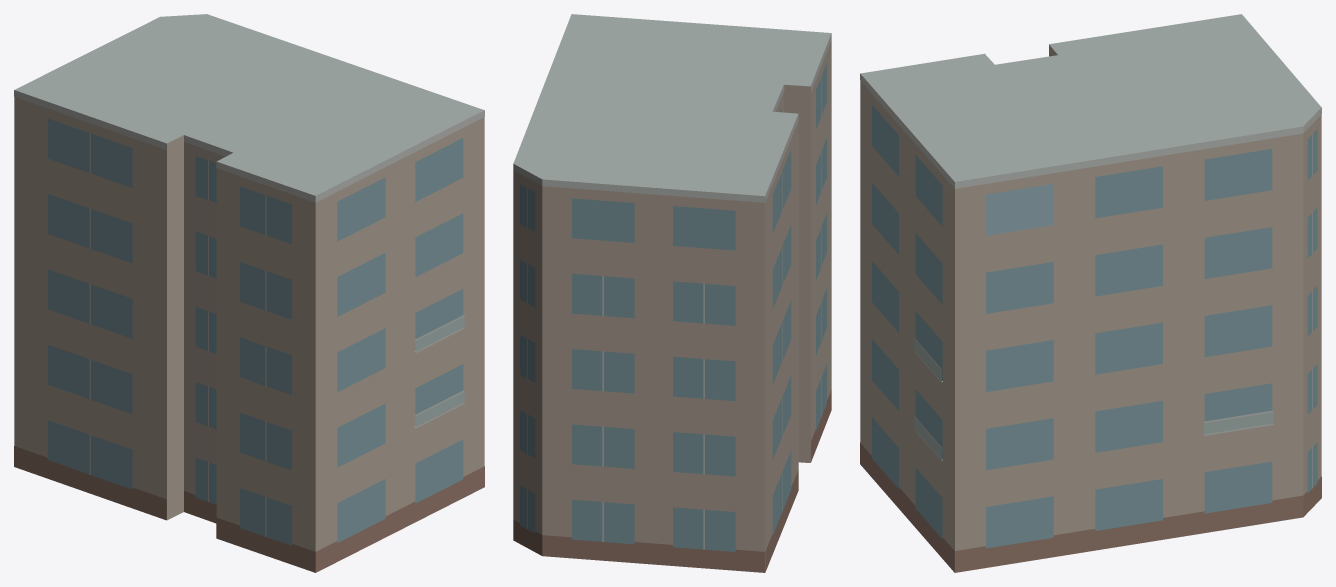
The model's file is survey-upis-32834954.glb.
The picture shows the model from 3 angles, left to right: view 1: azimuth 30°, elevation 25°; view 2: azimuth 150°, elevation 25°; view 3: azimuth 270°, elevation 25°; orthographic projection. The views are drawn at different scales.
Visible parts, largest first — view 1: survey-upis-32834954.tmp; view 2: survey-upis-32834954.tmp; view 3: survey-upis-32834954.tmp.
Part boxes in pixels (bbox=[...]): survey-upis-32834954.tmp: bbox=[14, 14, 484, 572]; survey-upis-32834954.tmp: bbox=[513, 14, 831, 572]; survey-upis-32834954.tmp: bbox=[860, 14, 1321, 572].
Size of the model in its own units: 12.74 by 13.8 by 14.78.
